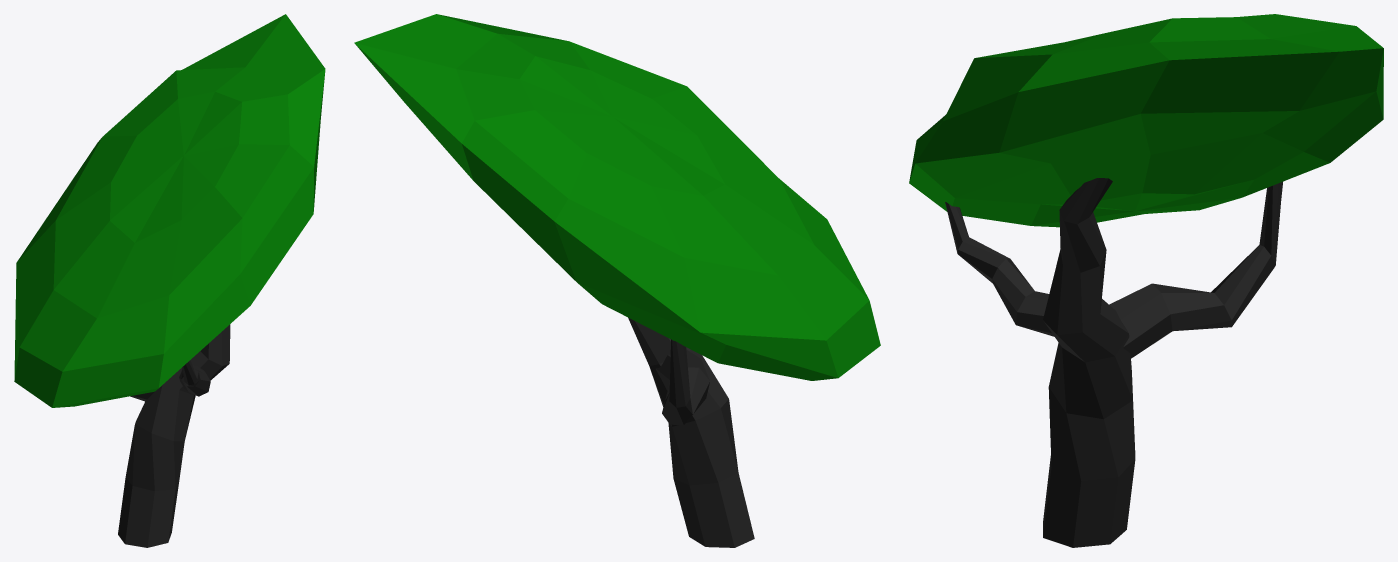
Rendered from Tree01.fbx.
The picture shows the model from 3 angles, left to right: view 1: azimuth 30°, elevation 25°; view 2: azimuth 150°, elevation 25°; view 3: azimuth 270°, elevation 25°; orthographic projection. The views are drawn at different scales.
Visible parts, largest first — view 1: Tree01; view 2: Tree01; view 3: Tree01.
Boxes of the visible parts, left/top/right/bottom form: Tree01: left=14, top=14, right=325, bottom=547; Tree01: left=354, top=14, right=880, bottom=547; Tree01: left=909, top=14, right=1383, bottom=547.
Bounding box in the file's own units: 1392 × 1626 × 1077.
